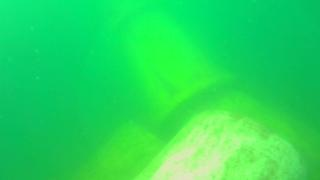pipe: (127, 12, 237, 133), (130, 108, 313, 180), (201, 88, 320, 157), (66, 119, 166, 180)
